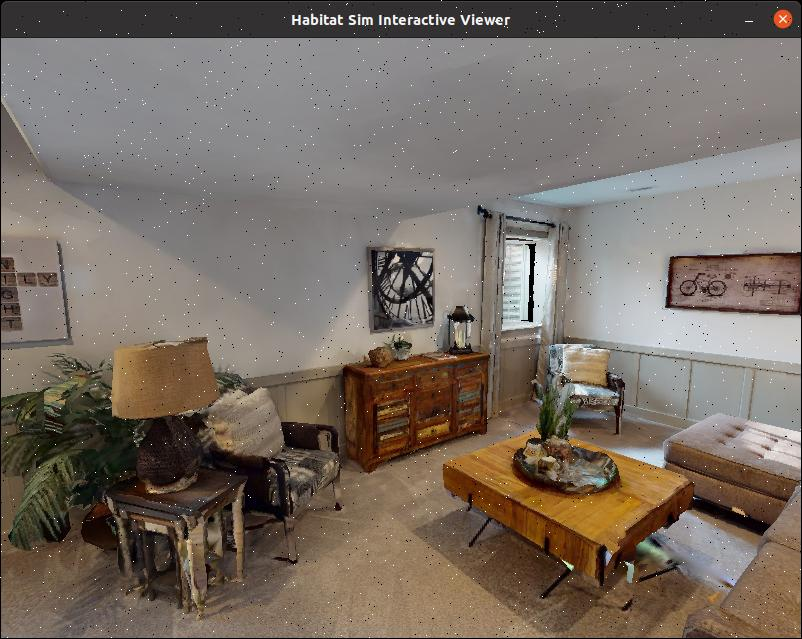table: (431, 391, 692, 629), (91, 457, 266, 627)
